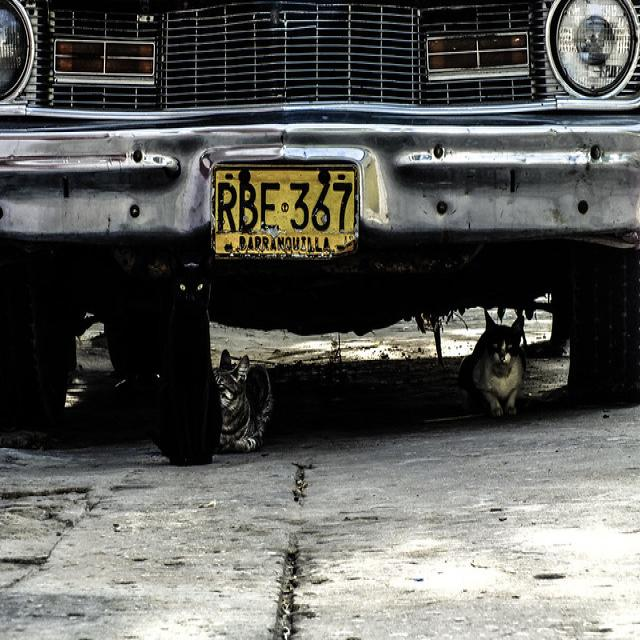placa_carro: (211, 162, 360, 261)
